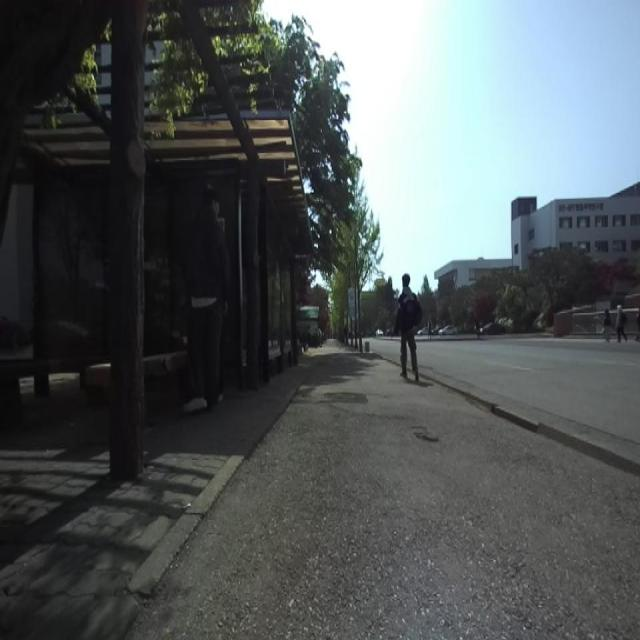sidewalk: (134, 345, 640, 639)
